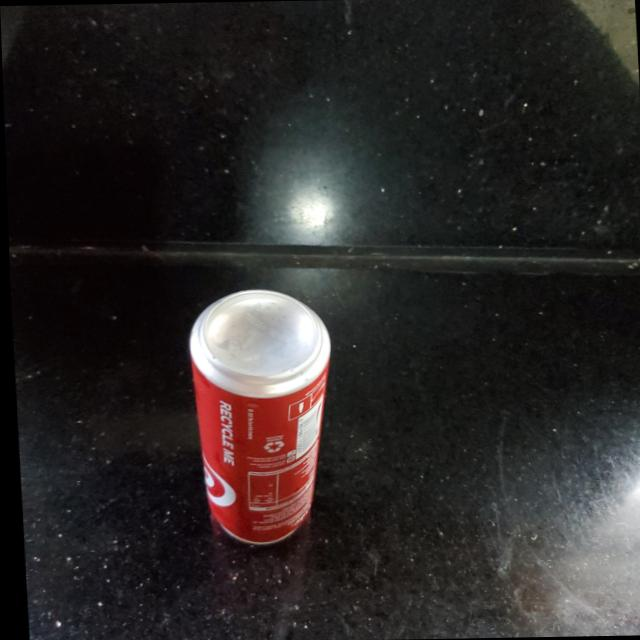coke: (186, 287, 339, 544)
